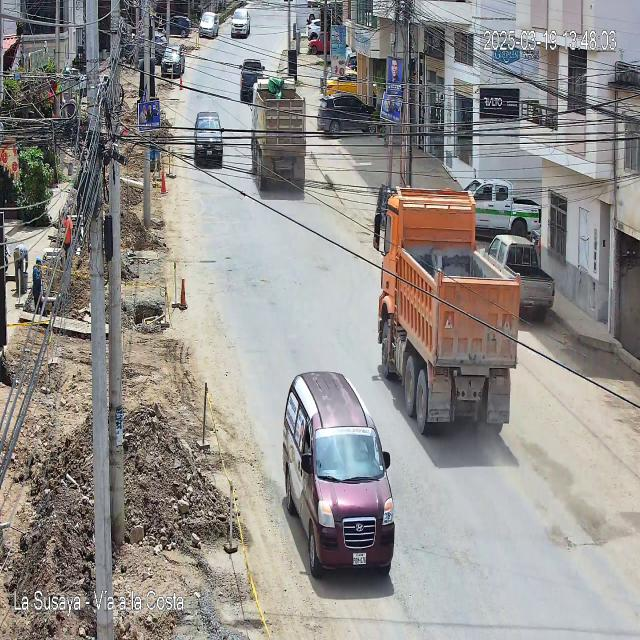BUS: (282, 372, 396, 578)
TRUCK: (379, 188, 521, 434), (252, 78, 306, 198)
